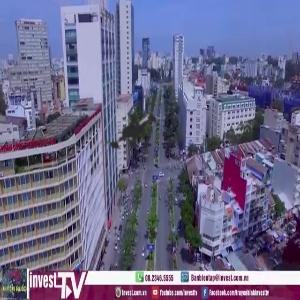drone: (85, 81, 191, 187)
